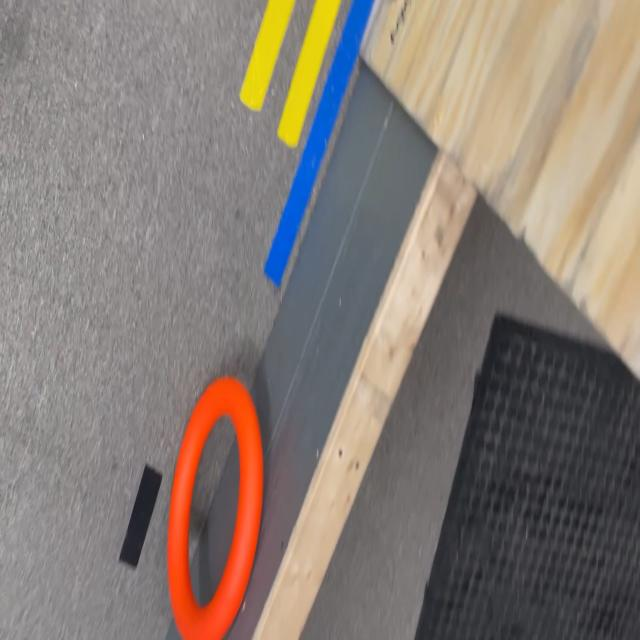note: (165, 372, 265, 640)
